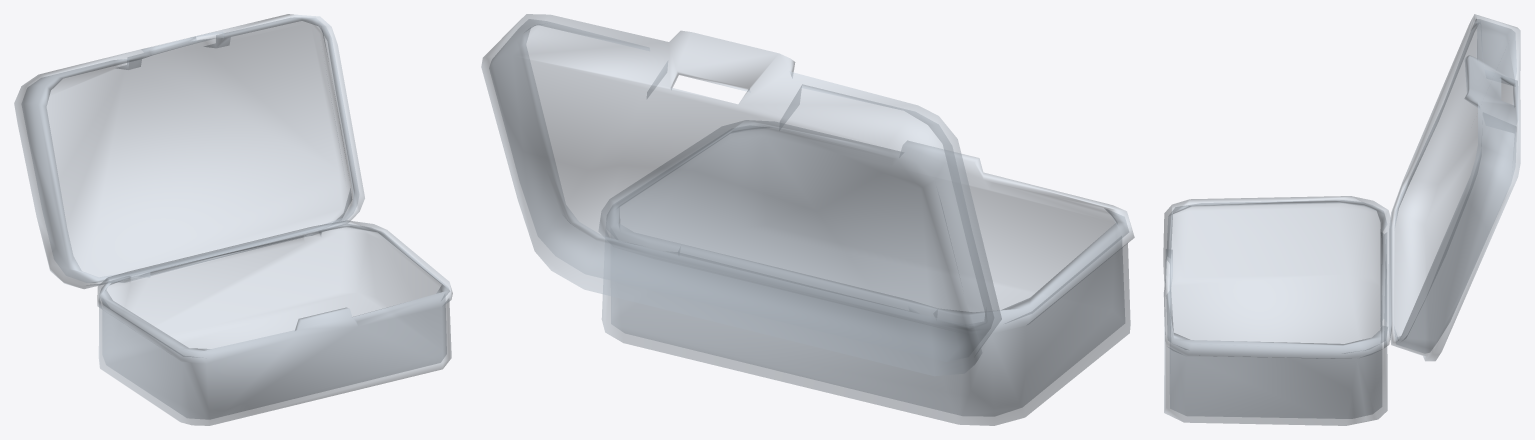
The model's file is 封闭皿.glb.
3 views of the same model, side by side, from view 1: azimuth 30°, elevation 25°; view 2: azimuth 150°, elevation 25°; view 3: azimuth 270°, elevation 25° (orthographic). The views are drawn at different scales.
Parts seen in each view (by area): view 1: 封闭皿; view 2: 封闭皿; view 3: 封闭皿.
Part boxes in pixels (x1,y1,x2,y2): 封闭皿: (14,14,452,425); 封闭皿: (481,14,1134,425); 封闭皿: (1163,14,1520,425).
Size of the model in its own units: 0.1254 by 0.1 by 0.1163.
